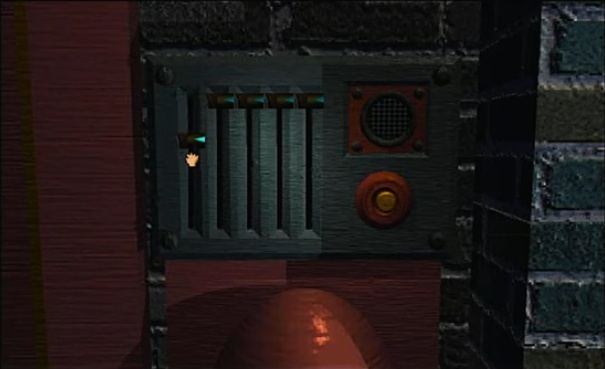Hold: (181, 148, 203, 168)
